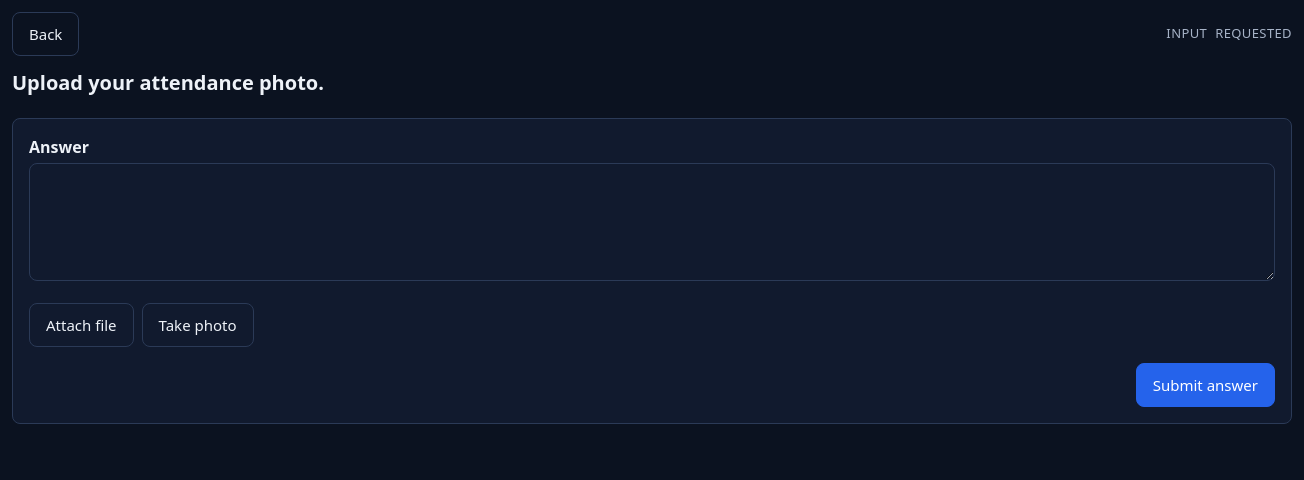
Test: TaskView › allows a photo-only answer (no text required)
Step 1. Click the button "Submit answer" → coordinates (1205, 385), box [1136,363,1275,407]
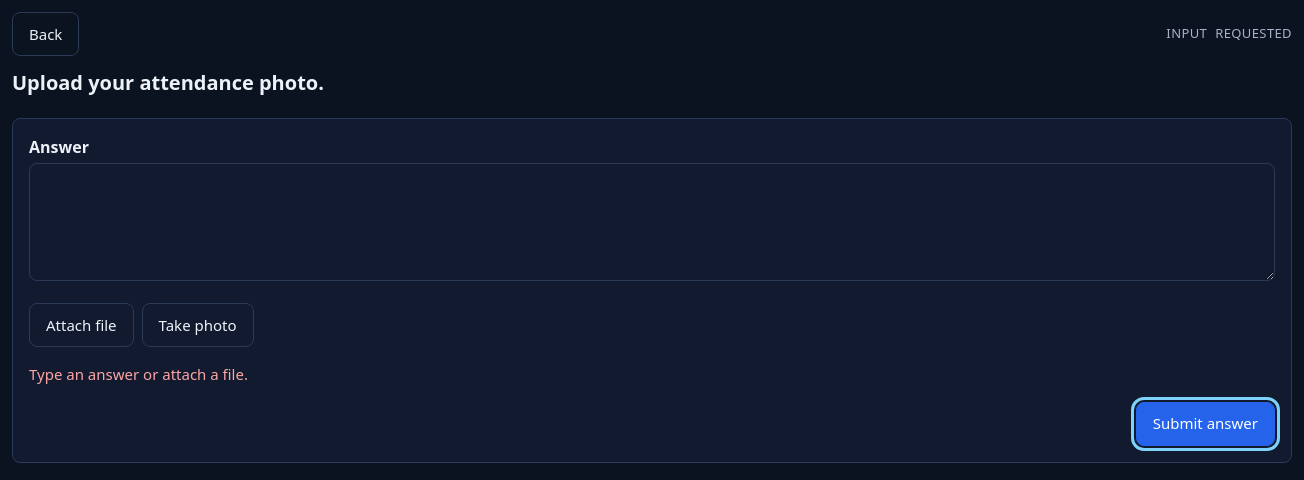
Check: the text "Type an answer or attach a file." is shown, box [29,364,248,384]
